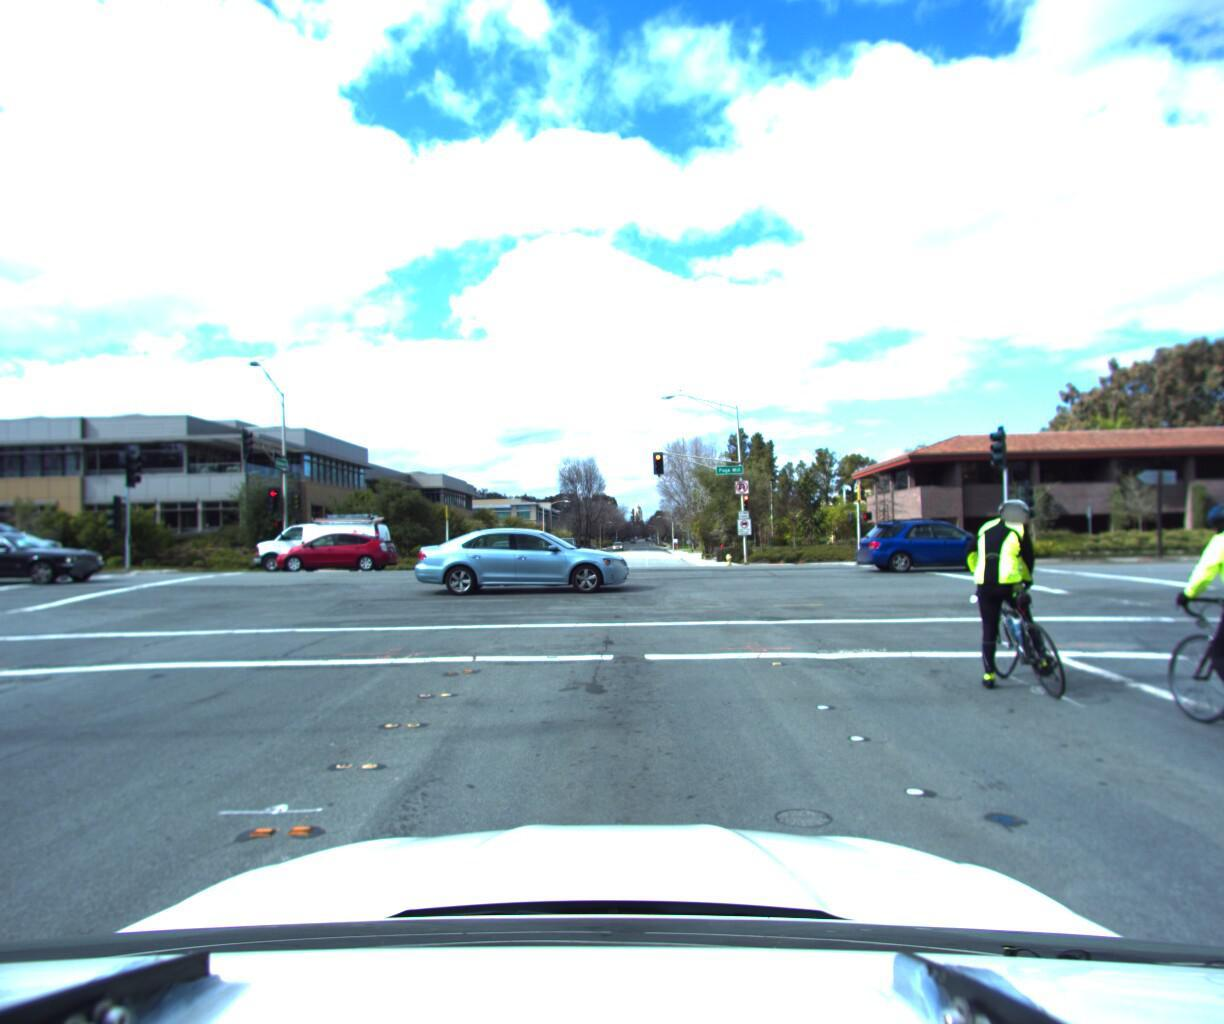bicycle: (944, 485, 1088, 711), (1136, 485, 1224, 771)
car: (409, 527, 633, 597), (840, 513, 1018, 573), (0, 535, 117, 592), (270, 530, 404, 576), (0, 518, 77, 584)
truck: (249, 511, 397, 576)
